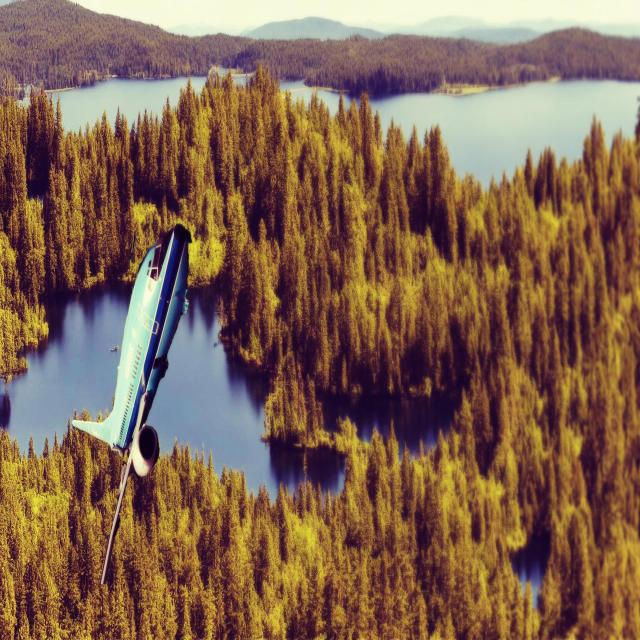airplane: (71, 222, 192, 586)
